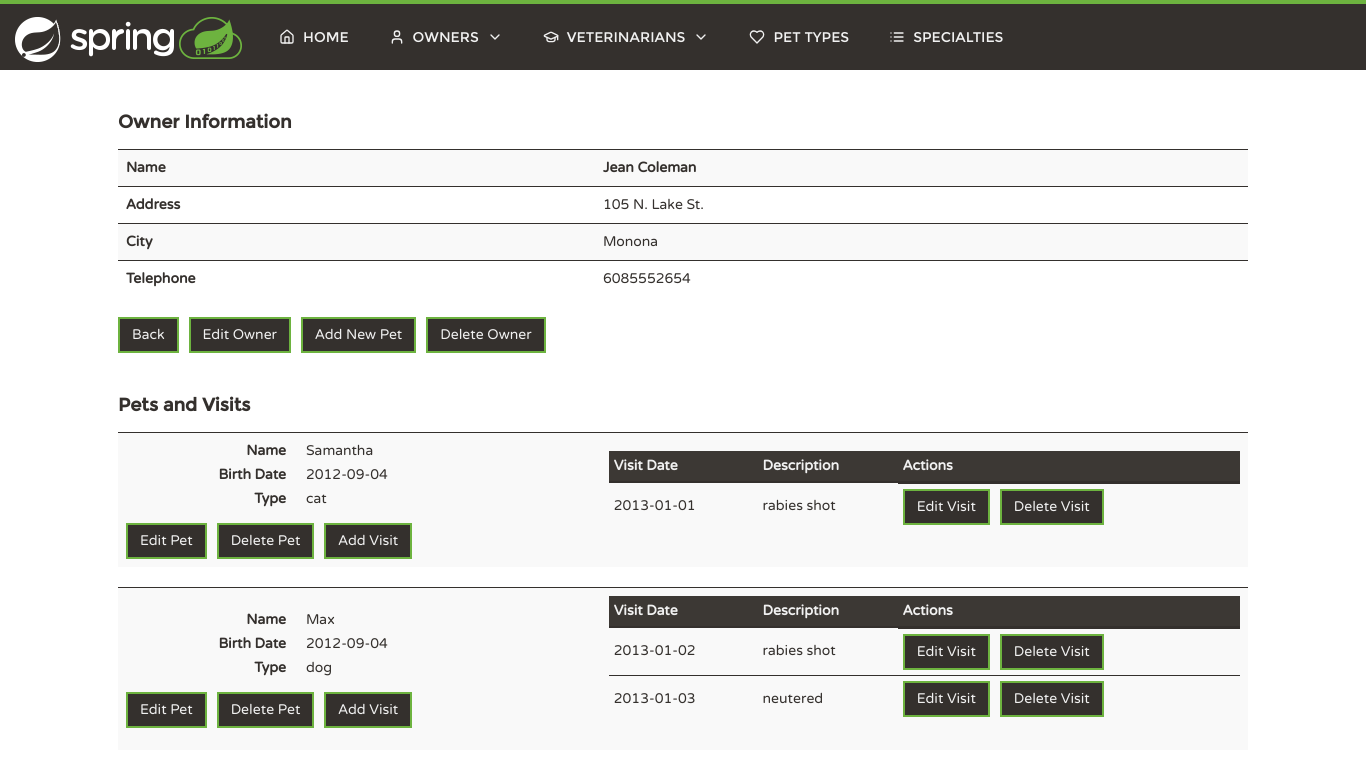
Test: OwnerDetailPage › deletes a pet and refetches the owner (204 empty body)
Expected: the text "Samantha" is shown, [306,443,373,459]
What coordinates should you click on to do the following:
click the button "Delete Pet" below "cat"
I would click on:
 (266, 541)
Its box is [217,523,314,559].
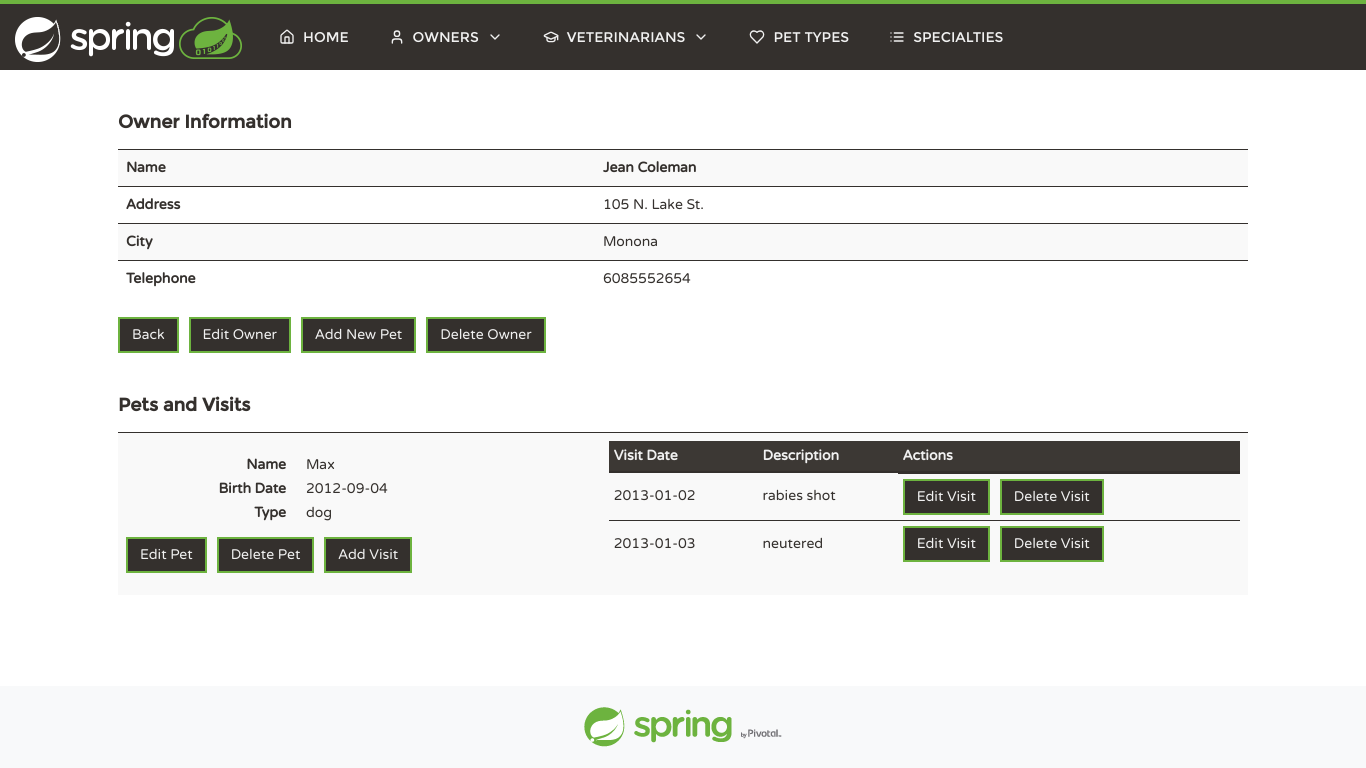
Expected: the text "Max" is shown, [306,457,335,473]
Expected: the text "Samantha" is gone
